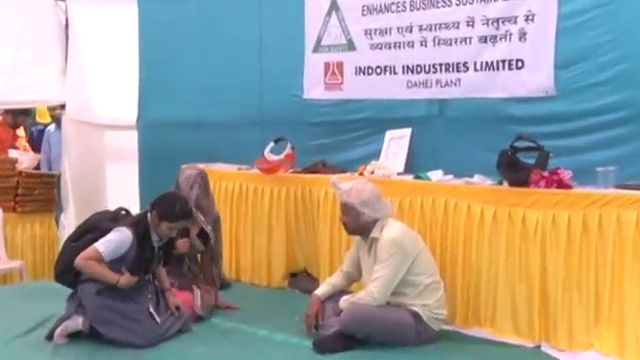helmet: (7, 149, 45, 171)
helmet_off: (333, 181, 387, 244), (143, 193, 196, 245), (176, 174, 215, 229), (0, 105, 27, 139), (44, 102, 66, 125)
person: (298, 183, 450, 350), (36, 201, 186, 345), (142, 171, 232, 318), (40, 102, 73, 173), (1, 105, 31, 157)
